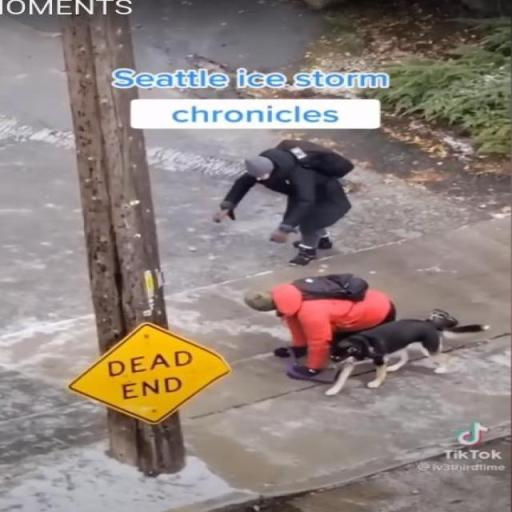Fall: (239, 272, 459, 378)
